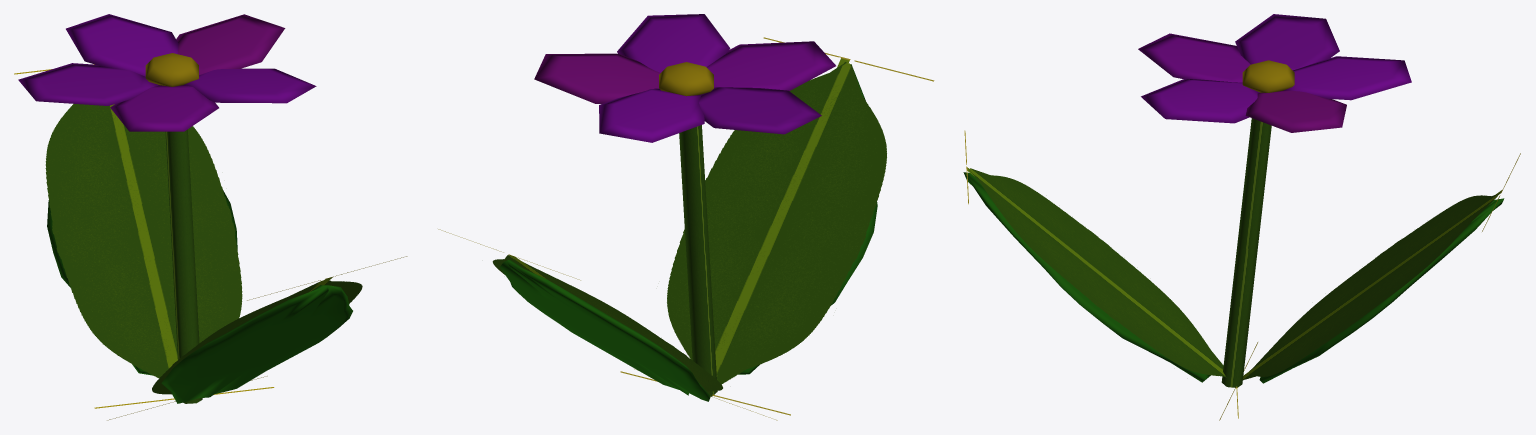
File: lilaflower.glb
3 renders of one model, left to right at view 1: azimuth 30°, elevation 25°; view 2: azimuth 150°, elevation 25°; view 3: azimuth 270°, elevation 25°, orthographic. The views are drawn at different scales.
Parts seen in each view (by area): view 1: Merged batch 1; view 2: Merged batch 1; view 3: Merged batch 1.
Part boxes in pixels (left/top/right/bottom): Merged batch 1: left=14, top=14, right=407, bottom=420; Merged batch 1: left=438, top=14, right=934, bottom=420; Merged batch 1: left=963, top=14, right=1520, bottom=420.
Size of the model in its own units: 0.7577 by 0.8991 by 1.42.
1 material, 1 textured.
